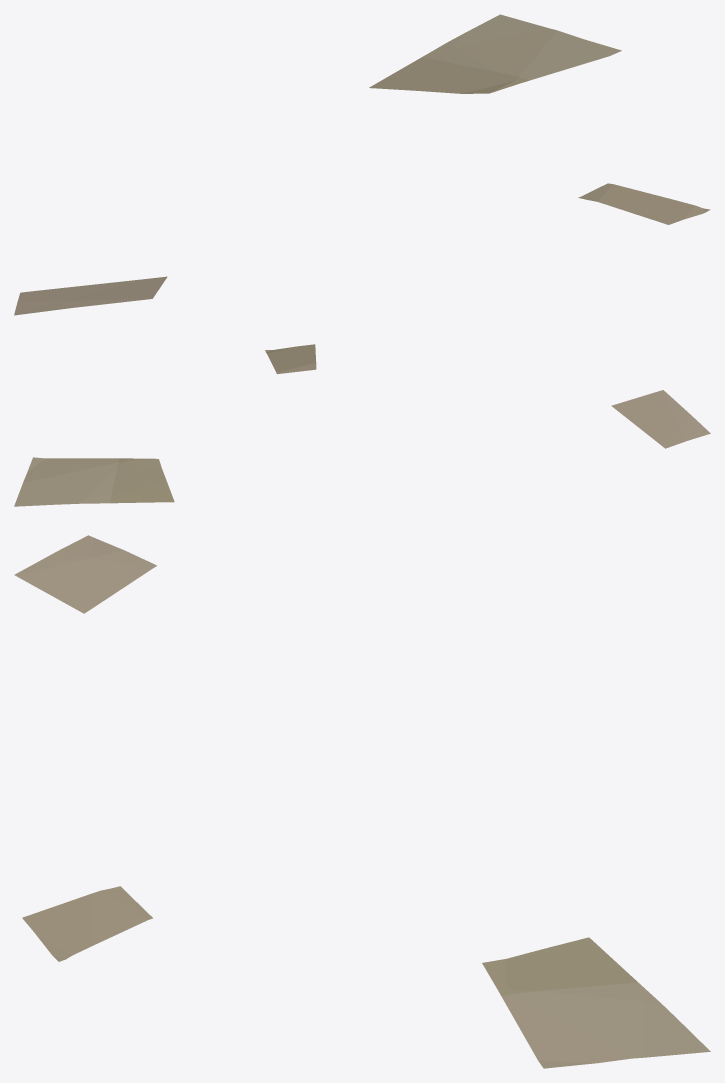
File: farm_1_-2_soil.glb
The picture shows the model from 3 angles, top to bottom: view 1: azimuth 30°, elevation 25°; view 2: azimuth 150°, elevation 25°; view 3: azimuth 270°, elevation 25°; orthographic projection. The views are drawn at different scales.
Parts seen in each view (by area): view 1: geometry_0; view 2: geometry_0; view 3: geometry_0.
Part boxes in pixels (bbox=[...]): geometry_0: bbox=[14, 14, 710, 315]; geometry_0: bbox=[14, 344, 710, 506]; geometry_0: bbox=[14, 535, 710, 1068].
Bounding box in the file's own units: 605 × 76 × 404.
